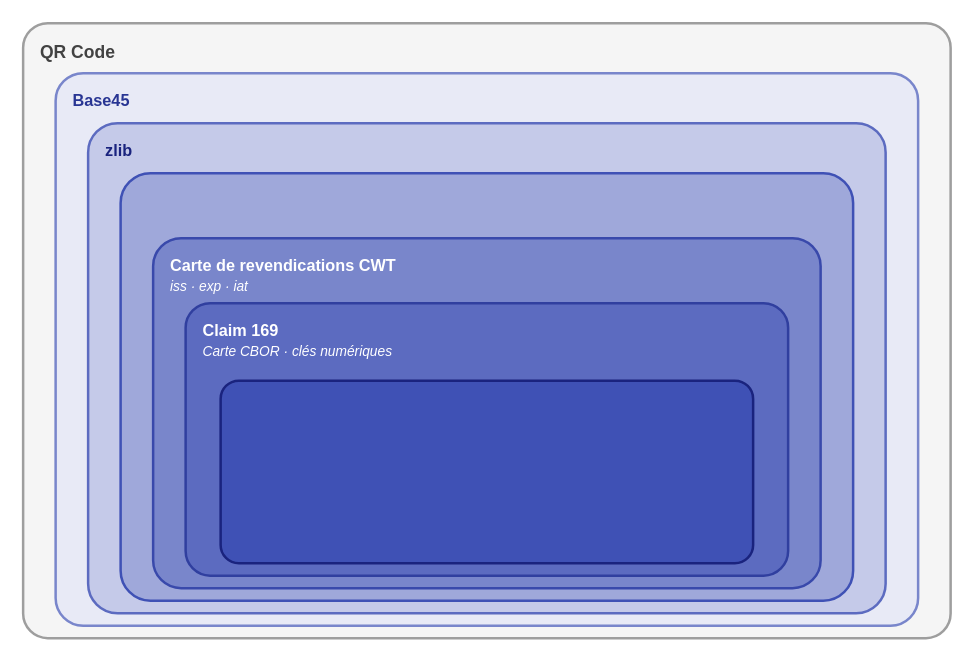
The diagram is 973 pixels wide and 660 high, and some of its shapes have lost their labels. The box of each missing label's shape, as (x1, y1, x2, y2) in pixels:
COSE_Sign1 protégé · non-protégé · signature: (119, 171, 854, 601)
Données d'identité démographie · biométrie: (219, 379, 754, 564)
